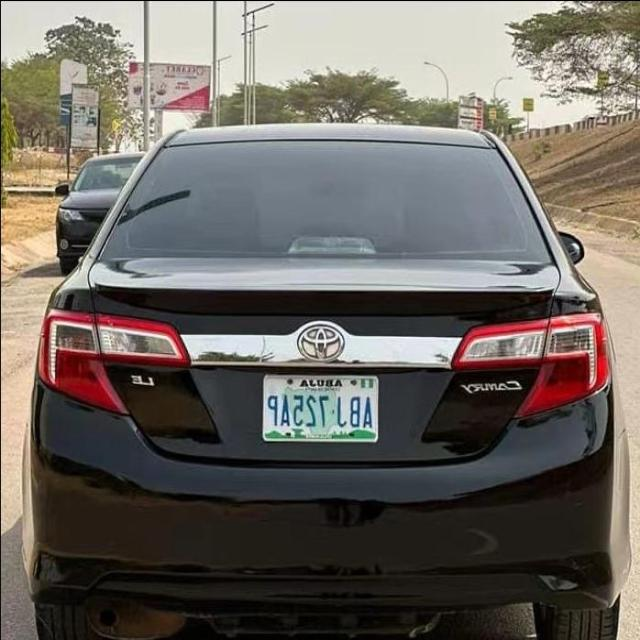Nigerian License Plate - vdataset benjamin-daria: (261, 368, 379, 444)
